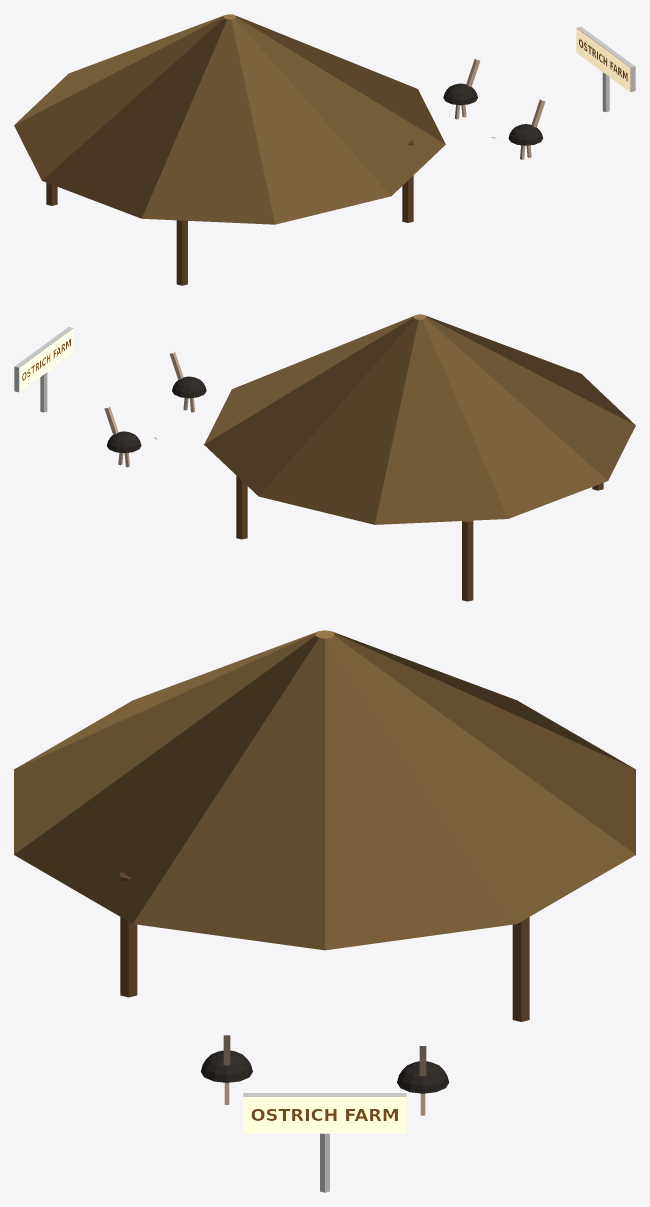
File: ostrichfarm.glb
3 renders of one model, top to bottom at view 1: azimuth 30°, elevation 25°; view 2: azimuth 150°, elevation 25°; view 3: azimuth 270°, elevation 25°, orthographic. The views are drawn at different scales.
Visible parts, largest first — view 1: ostrichfarm_lod0; view 2: ostrichfarm_lod0; view 3: ostrichfarm_lod0.
Part boxes in pixels (bbox=[...]): ostrichfarm_lod0: bbox=[14, 14, 635, 285]; ostrichfarm_lod0: bbox=[14, 314, 635, 601]; ostrichfarm_lod0: bbox=[14, 630, 635, 1192].
Size of what is drawn, in the model's own units: 30.18 by 10.49 by 19.02.
8 materials, 1 textured.
